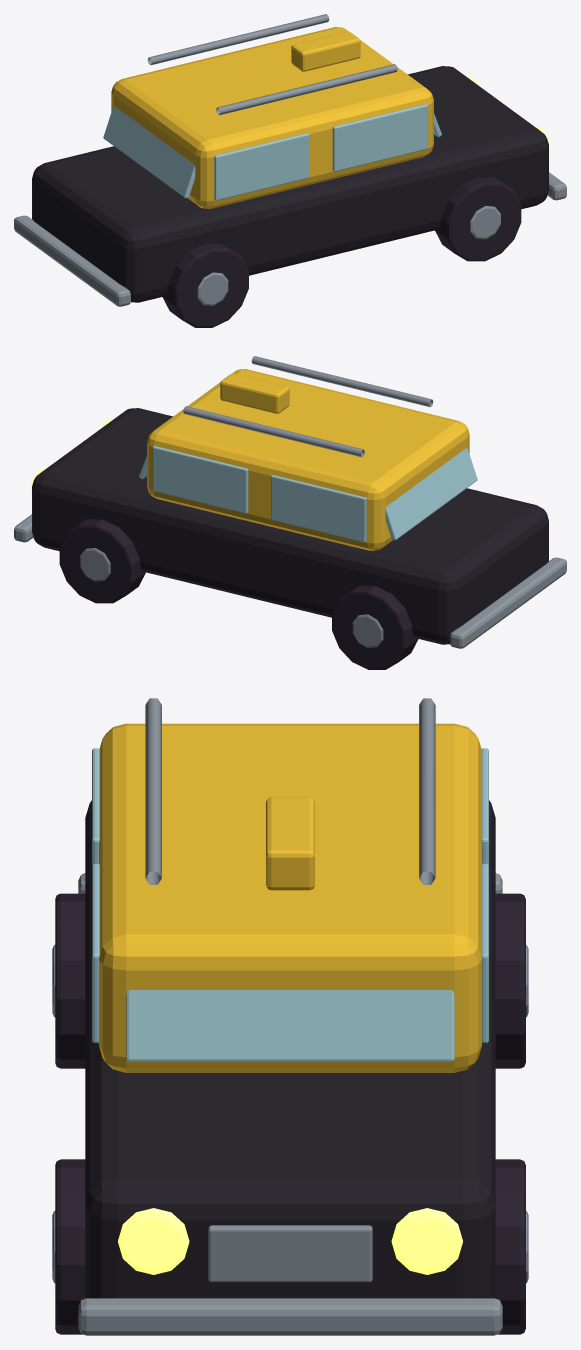
The model's file is kaali_peeli.glb.
3 renders of one model, top to bottom at view 1: azimuth 30°, elevation 25°; view 2: azimuth 150°, elevation 25°; view 3: azimuth 270°, elevation 25°, orthographic. The views are drawn at different scales.
Parts seen in each view (by area): view 1: kaali_peeli; view 2: kaali_peeli; view 3: kaali_peeli.
Part boxes in pixels (left/top/right/bottom): kaali_peeli: left=14, top=14, right=566, bottom=327; kaali_peeli: left=14, top=356, right=566, bottom=669; kaali_peeli: left=52, top=698, right=528, bottom=1335.
Size of the model in its own units: 3.8 by 1.63 by 1.74.
